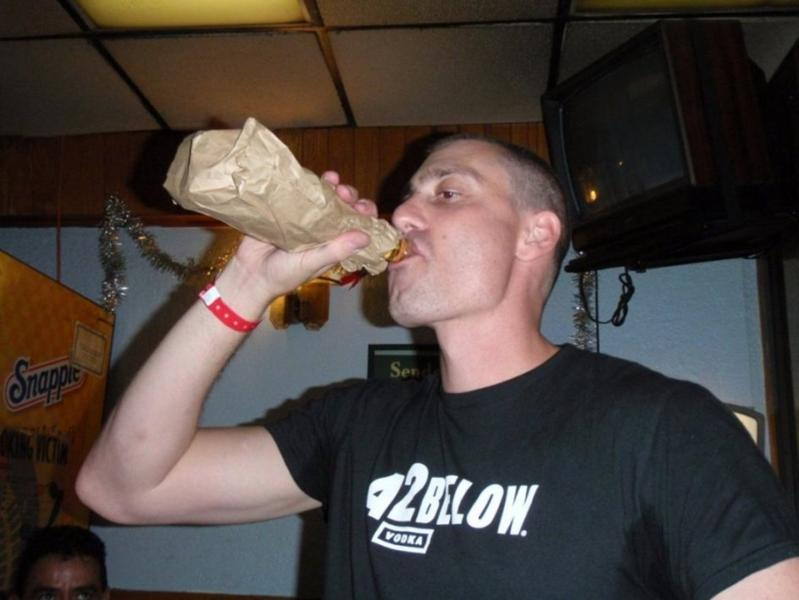person: (77, 131, 798, 599)
